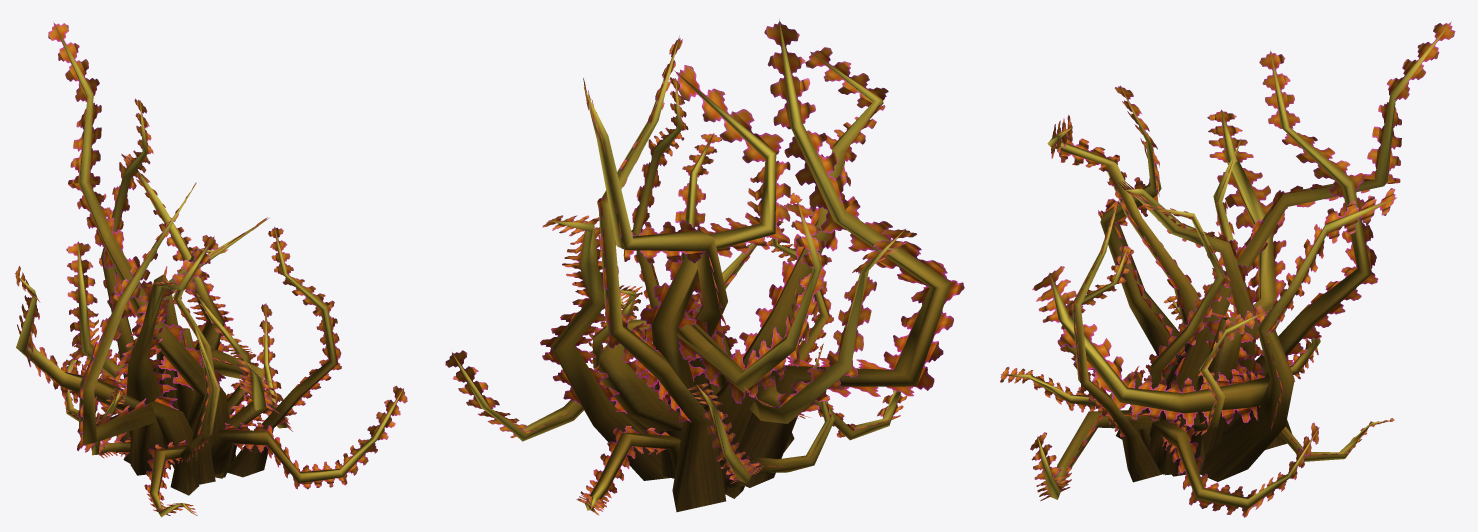
Rendered from n_SWFgogra02c.glb.
The picture shows the model from 3 angles, left to right: view 1: azimuth 30°, elevation 25°; view 2: azimuth 150°, elevation 25°; view 3: azimuth 270°, elevation 25°; orthographic projection. The views are drawn at different scales.
Parts seen in each view (by area): view 1: n_SWFgogra02c; view 2: n_SWFgogra02c; view 3: n_SWFgogra02c.
Part boxes in pixels (bbox=[...]): n_SWFgogra02c: bbox=[15, 22, 407, 517]; n_SWFgogra02c: bbox=[445, 19, 964, 515]; n_SWFgogra02c: bbox=[1000, 21, 1455, 517].
Bounding box in the file's own units: 2.47 × 2.77 × 2.71.
Materials: 5 (5 with a texture image).
